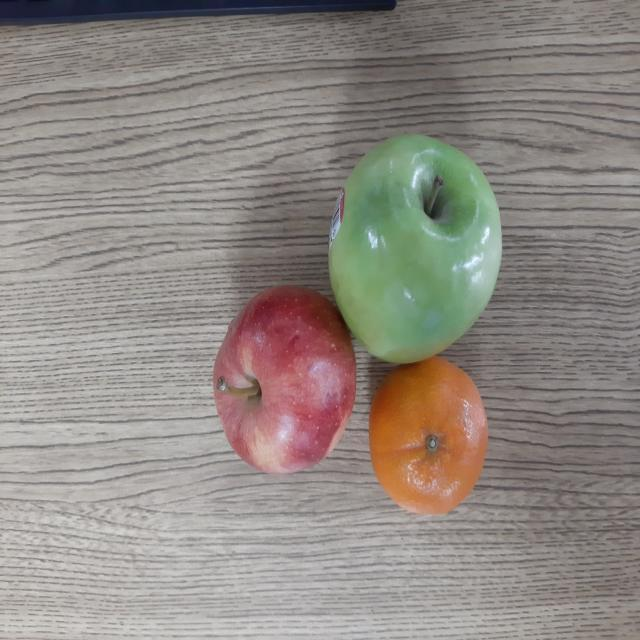Apel Gala: (208, 282, 361, 478)
Apel Granny Smith: (328, 125, 504, 369)
Jeruk Mandarin: (366, 352, 492, 519)
